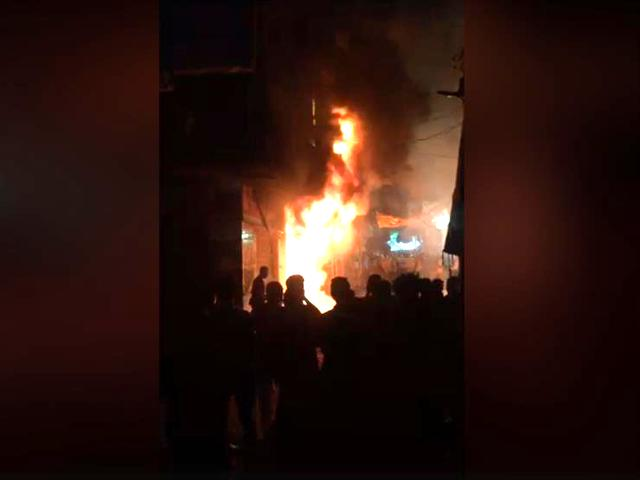fire: (288, 103, 381, 269)
